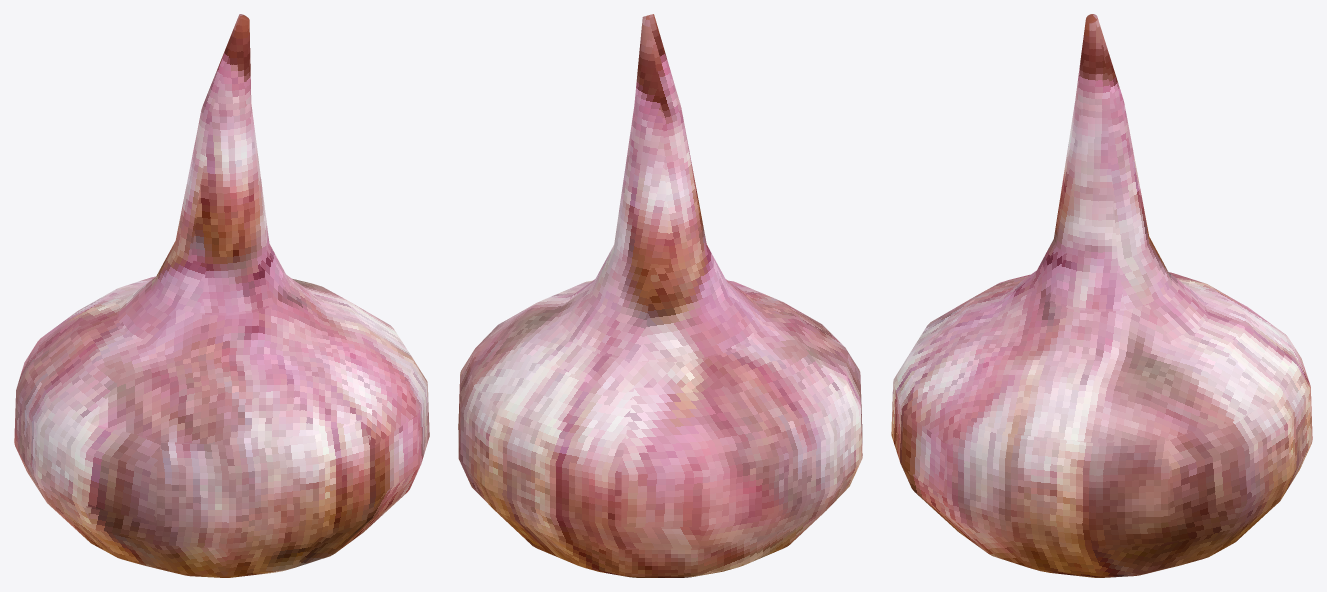
File: Garlic.gltf
3 views of the same model, side by side, from view 1: azimuth 30°, elevation 25°; view 2: azimuth 150°, elevation 25°; view 3: azimuth 270°, elevation 25° (orthographic). The views are drawn at different scales.
Visible parts, largest first — view 1: Garlic; view 2: Garlic; view 3: Garlic.
Boxes of the visible parts, x1=… form: Garlic: x1=14, y1=14, x2=429, y2=577; Garlic: x1=458, y1=14, x2=862, y2=577; Garlic: x1=891, y1=14, x2=1312, y2=577.
Size of the model in its own units: 1.01 by 1.43 by 1.01.
1 material, 1 textured.
